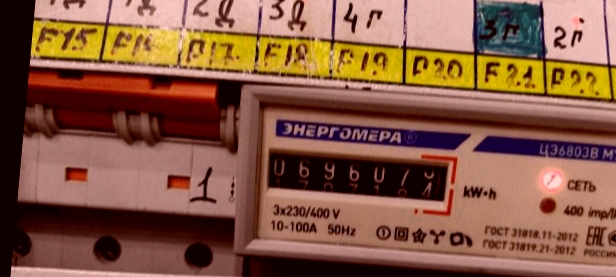0: (371, 162, 388, 185), (271, 156, 287, 178)
4: (419, 180, 434, 202)
6: (296, 157, 312, 179), (346, 162, 362, 183)
7: (396, 166, 412, 189)
9: (321, 160, 336, 182)
screen: (252, 138, 463, 215)
